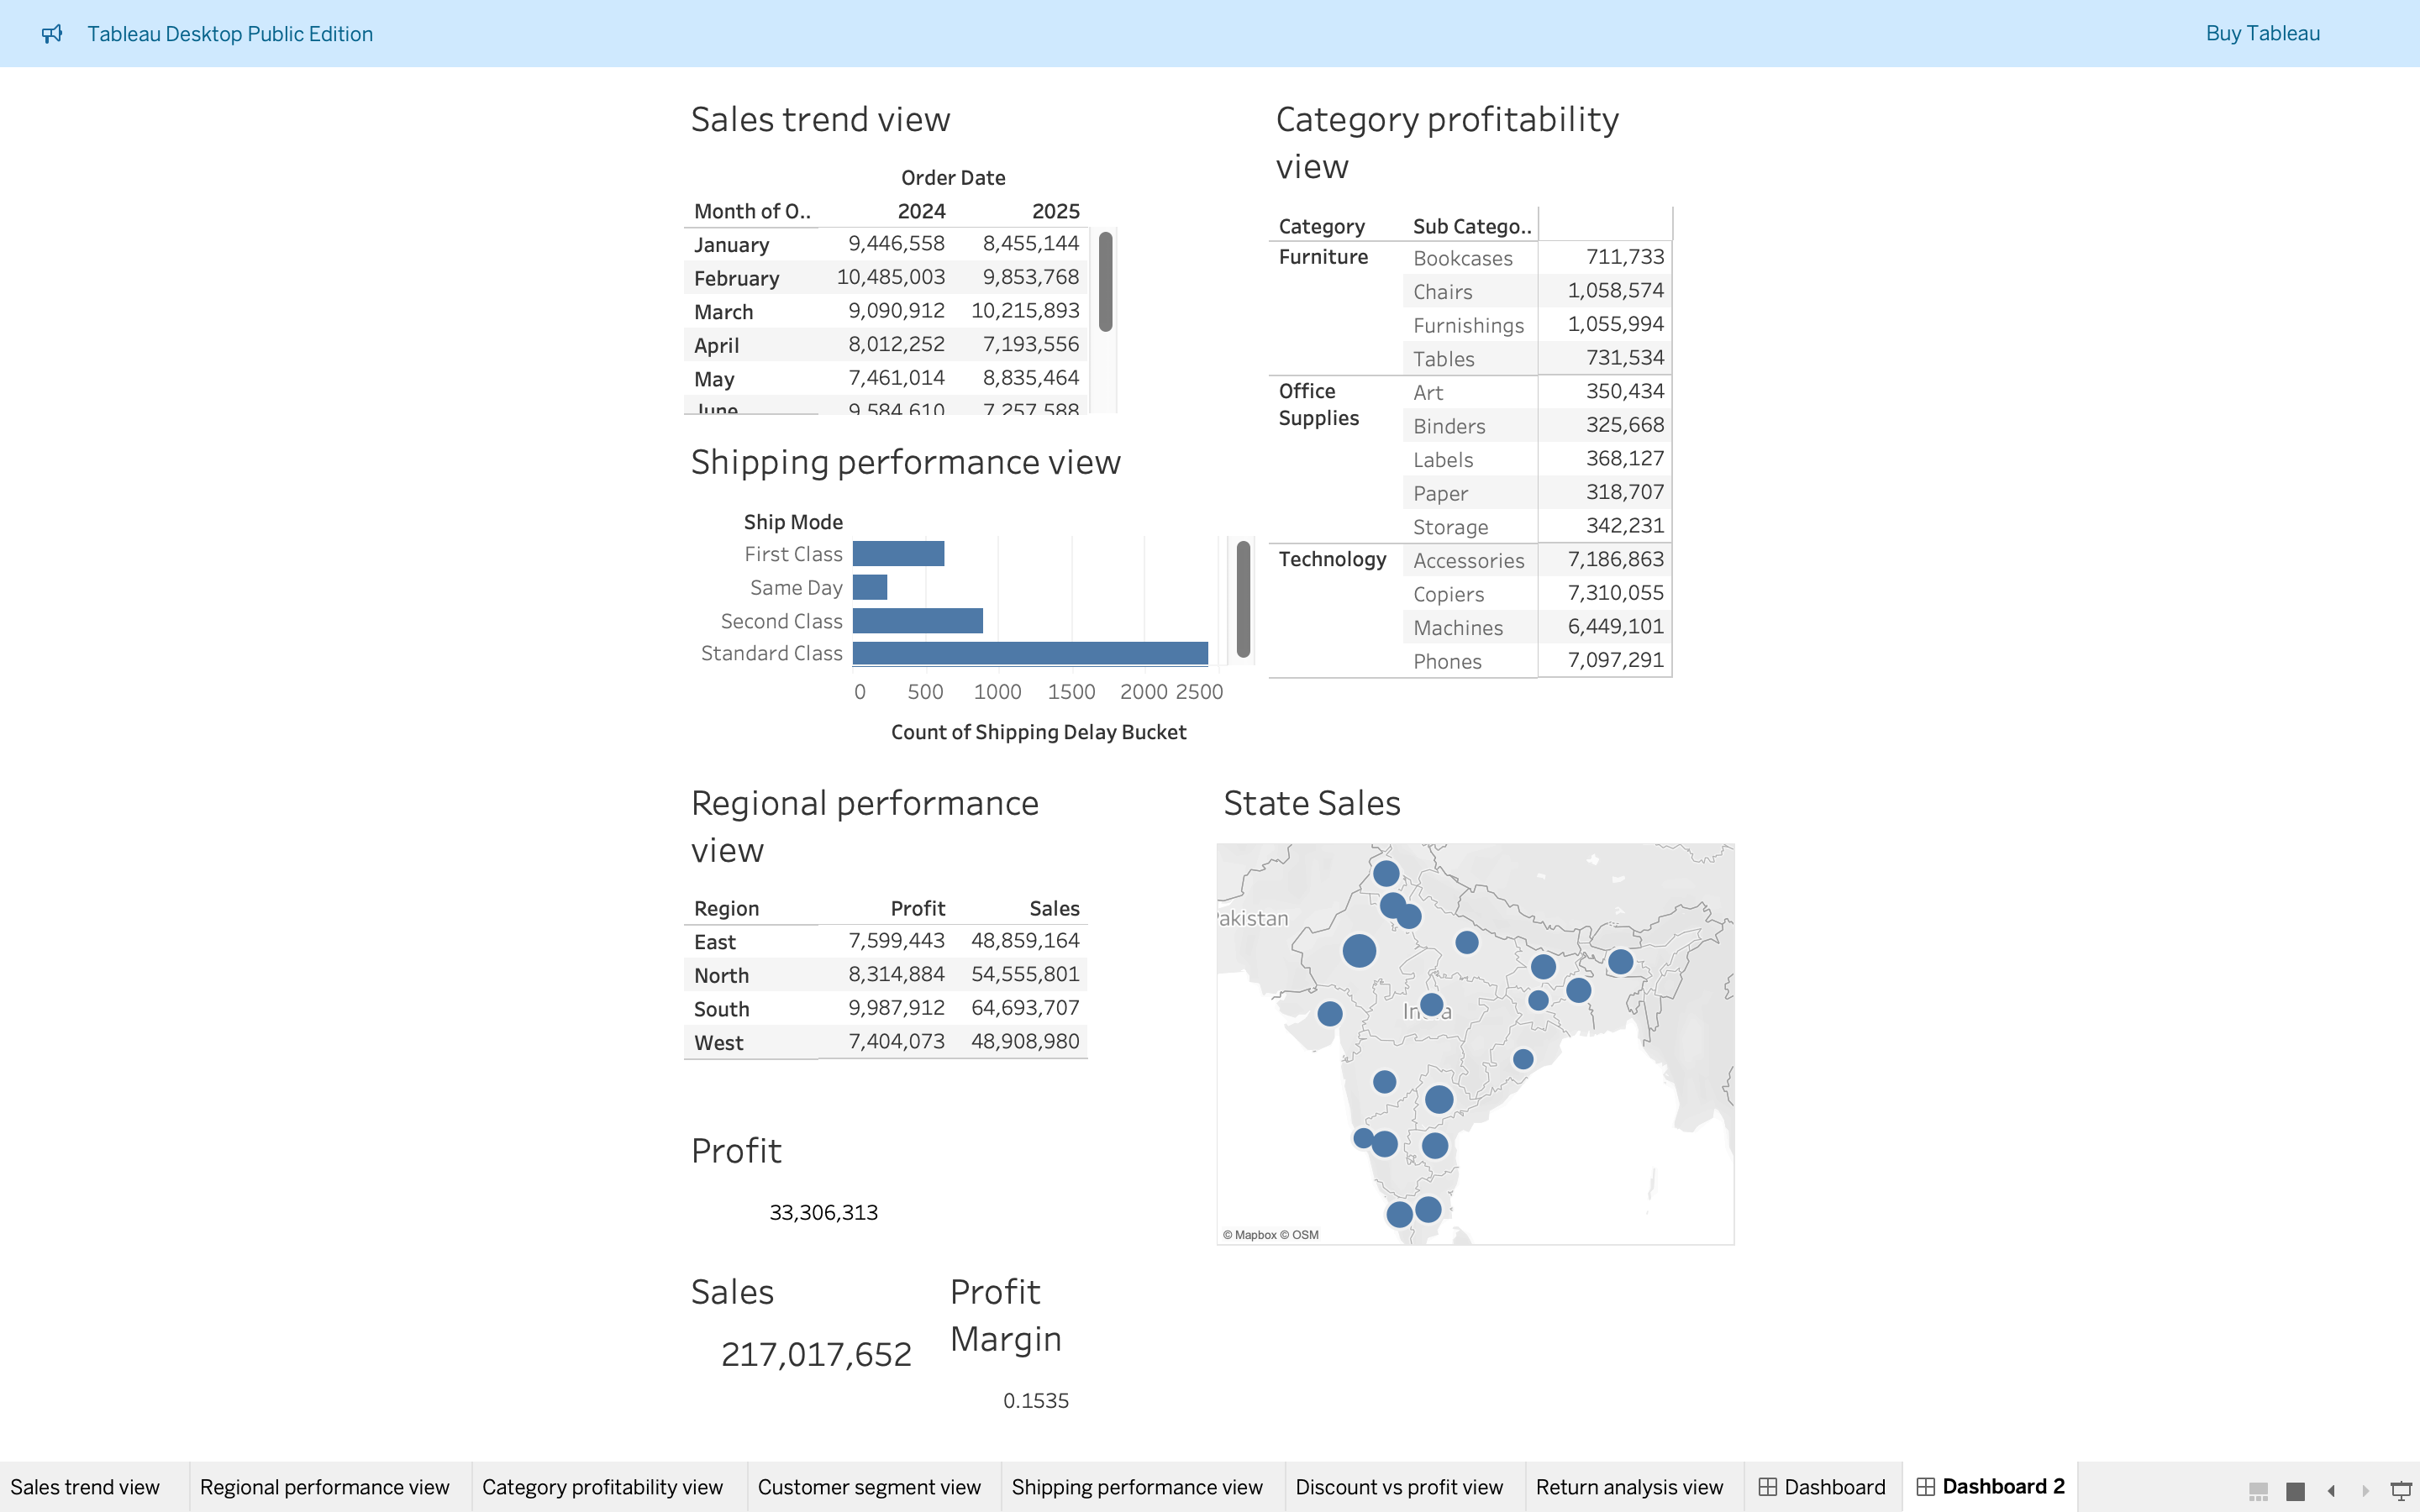

Layout of this report page (visuals, bound fields, positions):
{"tool":"tableau","page":{"name":"Dashboard 2","canvas":[650,860],"ordinal":1},"visuals":[{"type":"worksheet","title":"Sales trend view  ","mark":"Automatic","rows":["order_date"],"cols":["order_date"],"box":[8,8.9,348,210.5]},{"type":"worksheet","title":"Category profitability view","mark":"Automatic","rows":["category","sub_category"],"box":[356,8.9,286,421.1]},{"type":"worksheet","title":"Shipping performance view","mark":"Automatic","rows":["ship_mode"],"cols":["Calculation_0195730197782533"],"box":[8,219.5,348,210.5]},{"type":"worksheet","title":"Regional performance view","mark":"Automatic","rows":["region"],"box":[8,430,317,214.1]},{"type":"worksheet","title":"Sheet 14","mark":"Automatic","box":[325,430,317,301.4]},{"type":"worksheet","title":"Sheet 16","mark":"Automatic","box":[8,644.1,317,87.2]},{"type":"worksheet","title":"Sheet 15","mark":"Automatic","box":[8,731.4,154,119.7]},{"type":"worksheet","title":"Sheet 17","mark":"Automatic","box":[162,731.4,480,119.7]}]}

Visuals, with their boxes on the page's 650x860 design canvas (x1, y1, x2, y2). These are canvas units, not pixel positions in the 2420x1512 screenshot, which may show the page scaled, cropped or inside an application window:
"Sales trend view  " worksheet: rect(8, 9, 356, 219)
"Category profitability view" worksheet: rect(356, 9, 642, 430)
"Shipping performance view" worksheet: rect(8, 220, 356, 430)
"Regional performance view" worksheet: rect(8, 430, 325, 644)
"Sheet 14" worksheet: rect(325, 430, 642, 731)
"Sheet 16" worksheet: rect(8, 644, 325, 731)
"Sheet 15" worksheet: rect(8, 731, 162, 851)
"Sheet 17" worksheet: rect(162, 731, 642, 851)
